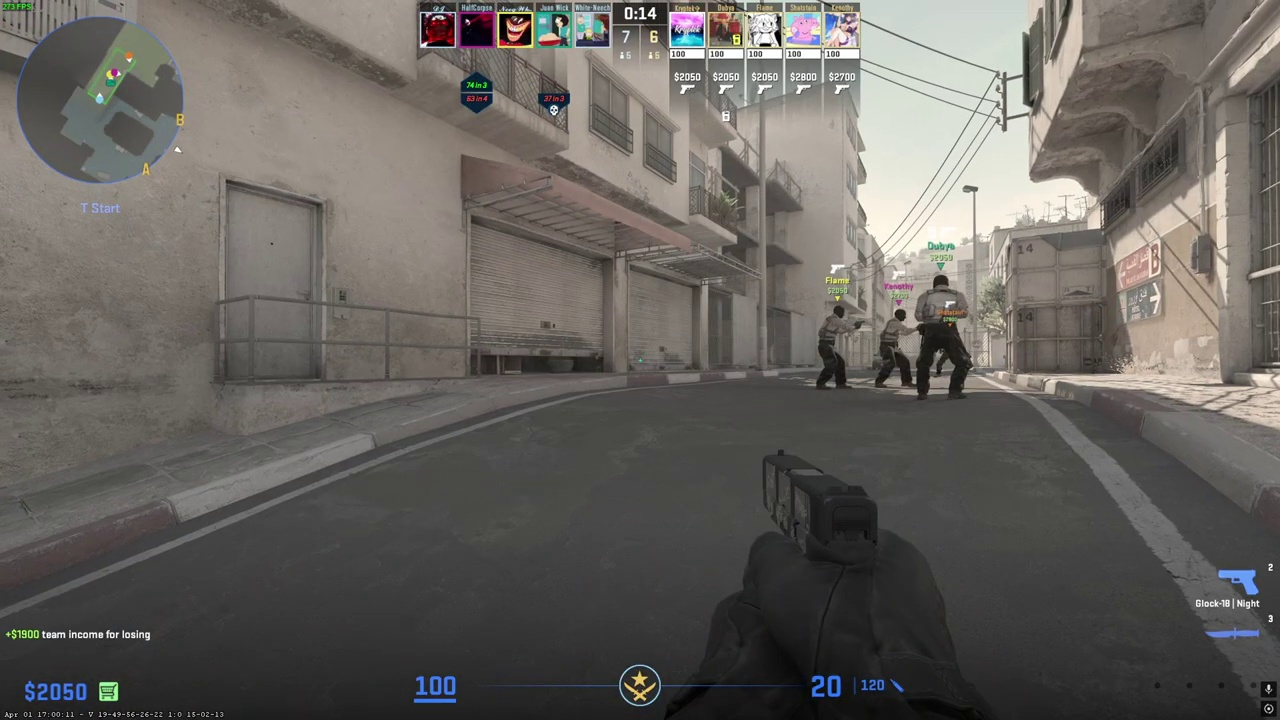Terrorist: (916, 275, 971, 401), (815, 305, 853, 390), (876, 309, 913, 388)
